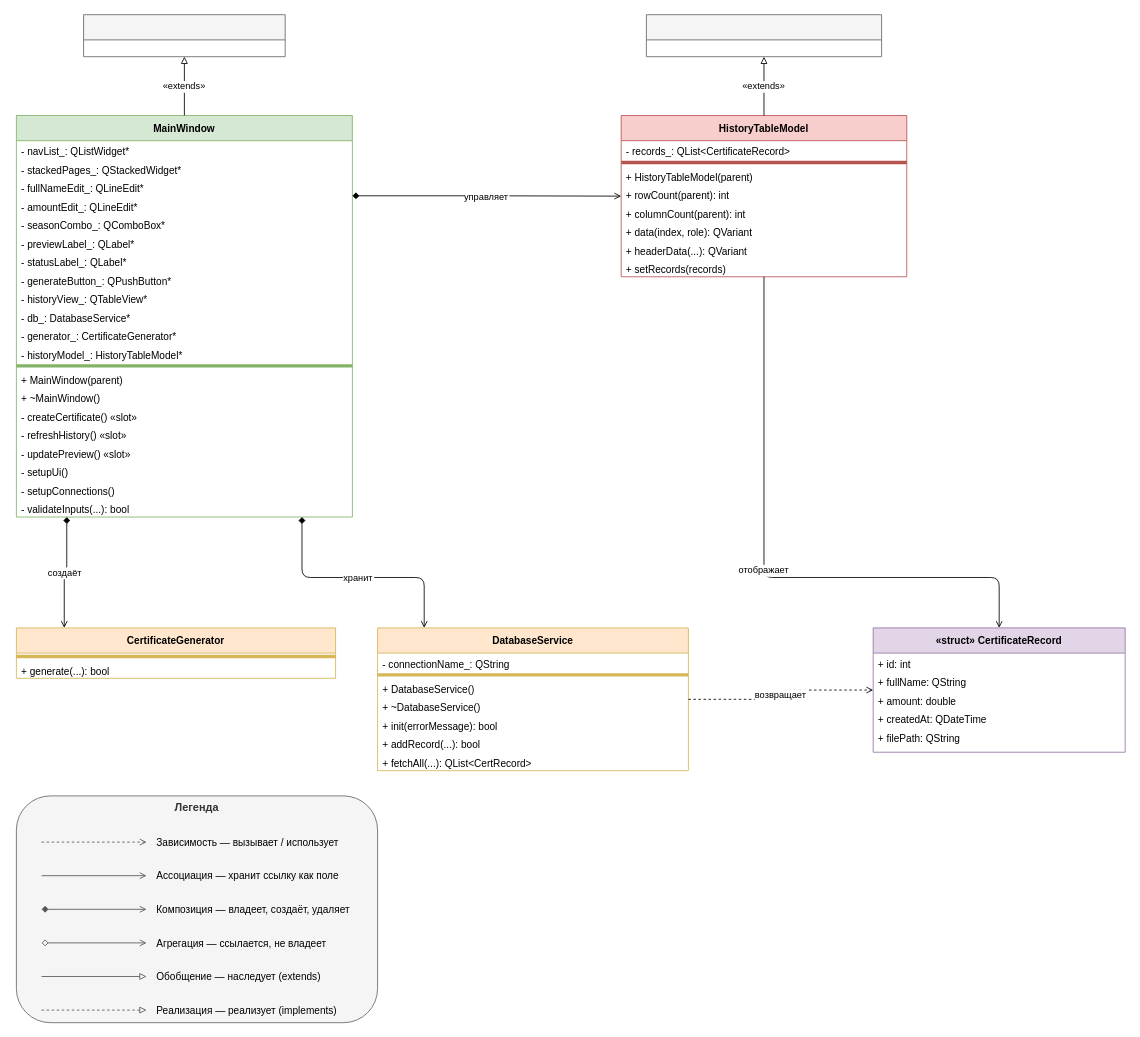
The diagram is 1140 pixels wide and 1037 high, and some of its shapes have lost their labels. The centre of each missing label's shape, as x and y in pixels:
«Qt» QAbstractTableModel: point (764, 35)
«Qt» QMainWindow: point (184, 35)
